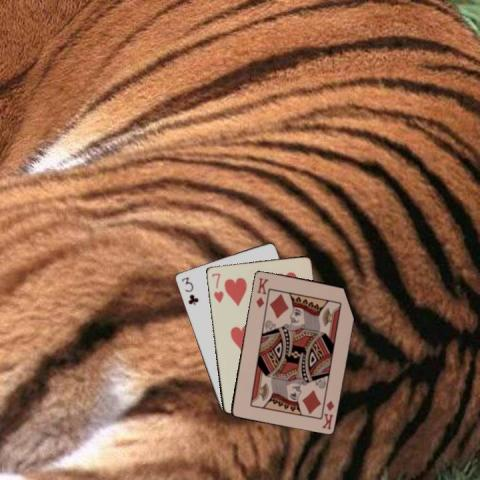3c: (179, 274, 200, 306)
7h: (208, 270, 224, 304)
Kd: (318, 392, 335, 431), (253, 275, 269, 309)
